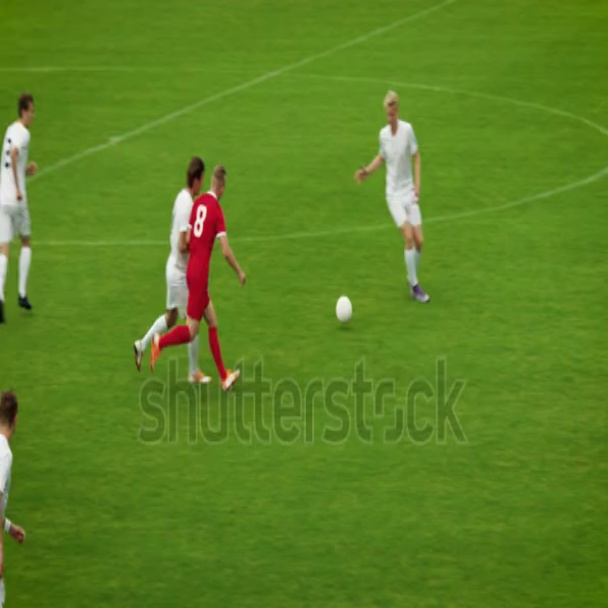ball: (337, 293, 354, 328)
